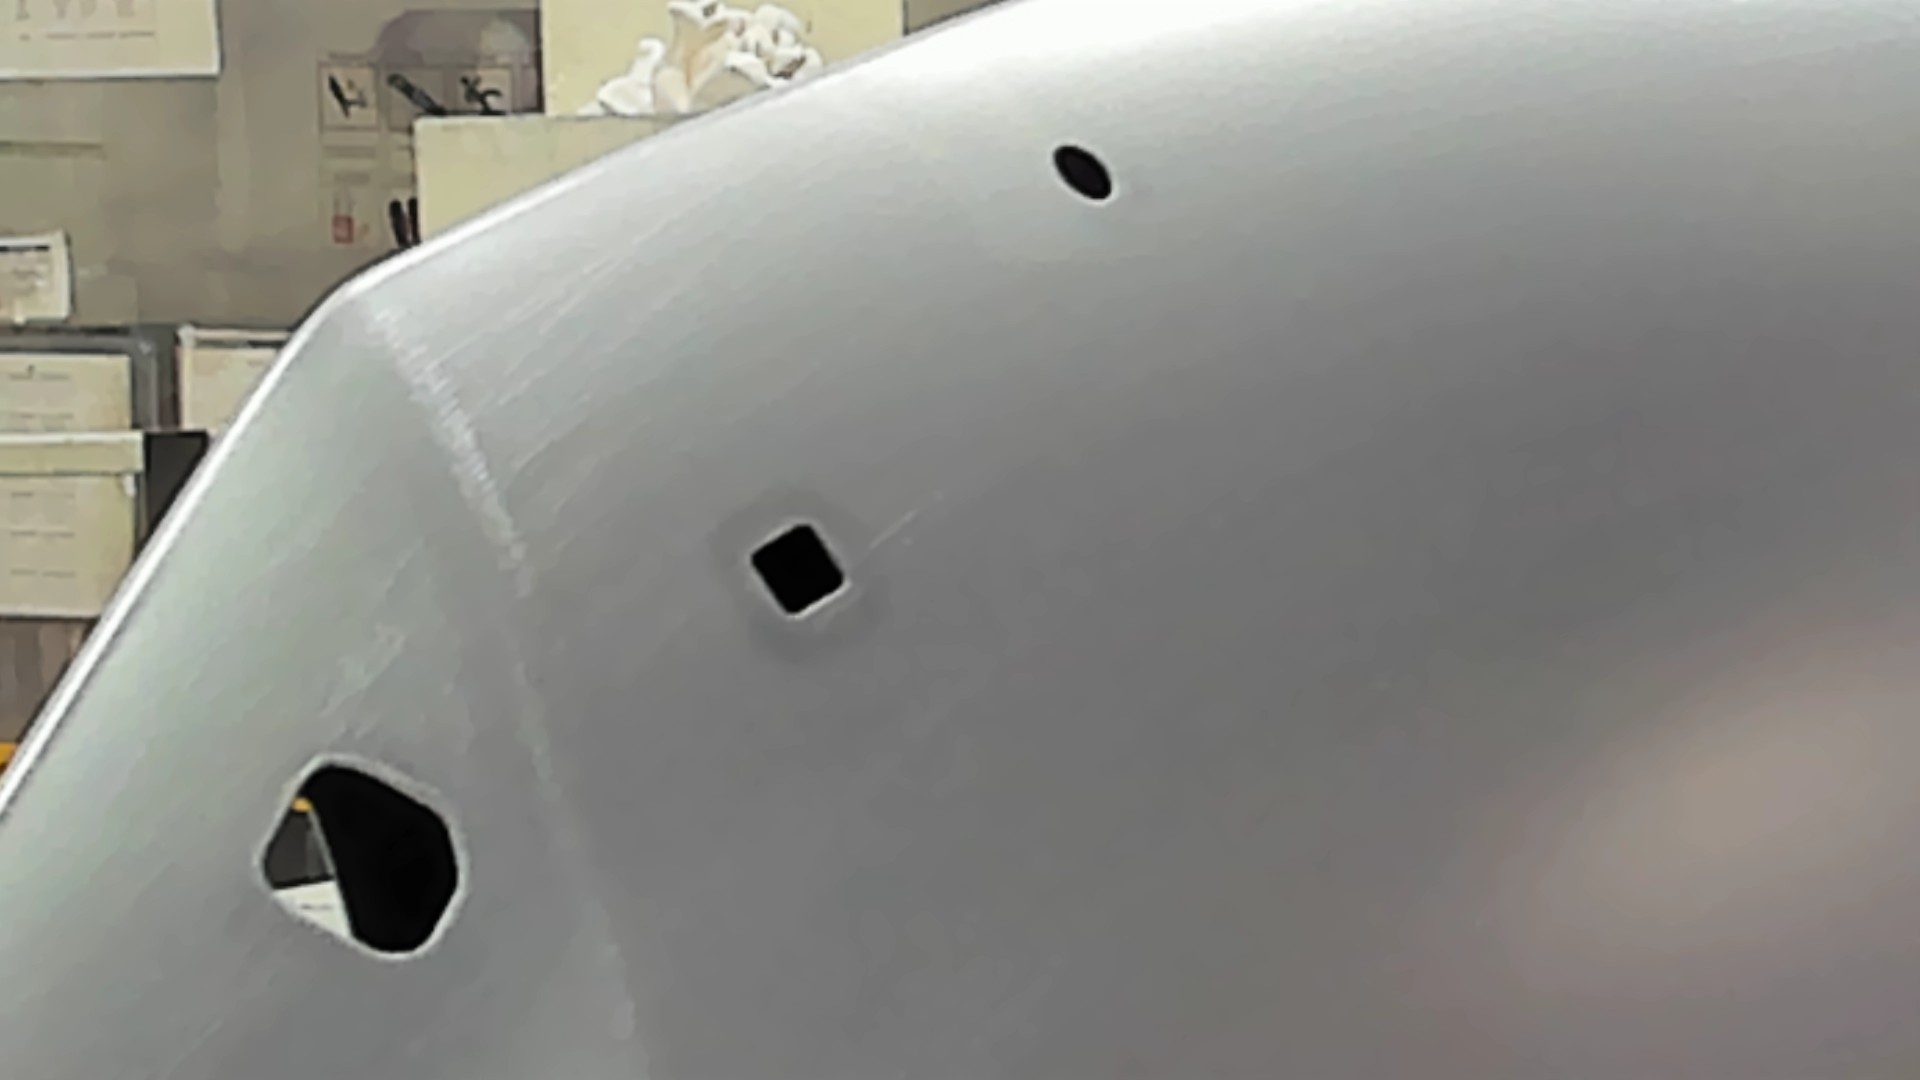chico: (1046, 138, 1116, 204)
grande: (247, 754, 473, 969)
mediano: (738, 513, 856, 624)
